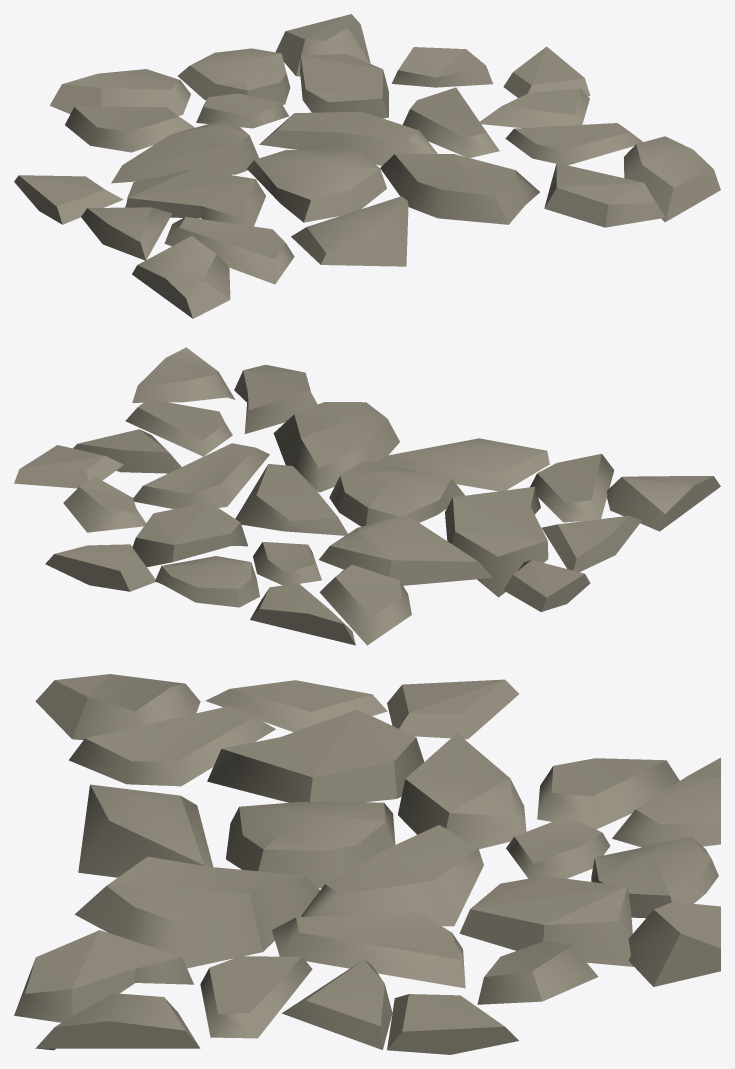
Rendered from Stone_Path_Crossroads_U.glb.
3 renders of one model, top to bottom at view 1: azimuth 30°, elevation 25°; view 2: azimuth 150°, elevation 25°; view 3: azimuth 270°, elevation 25°, orthographic. The views are drawn at different scales.
Parts seen in each view (by area): view 1: Stone_Path_Crossroads_U; view 2: Stone_Path_Crossroads_U; view 3: Stone_Path_Crossroads_U.
Part boxes in pixels (bbox=[...]): Stone_Path_Crossroads_U: bbox=[14, 14, 720, 318]; Stone_Path_Crossroads_U: bbox=[14, 347, 720, 645]; Stone_Path_Crossroads_U: bbox=[14, 674, 720, 1054].
Size of the model in its own units: 1.47 by 0.1587 by 1.26.
